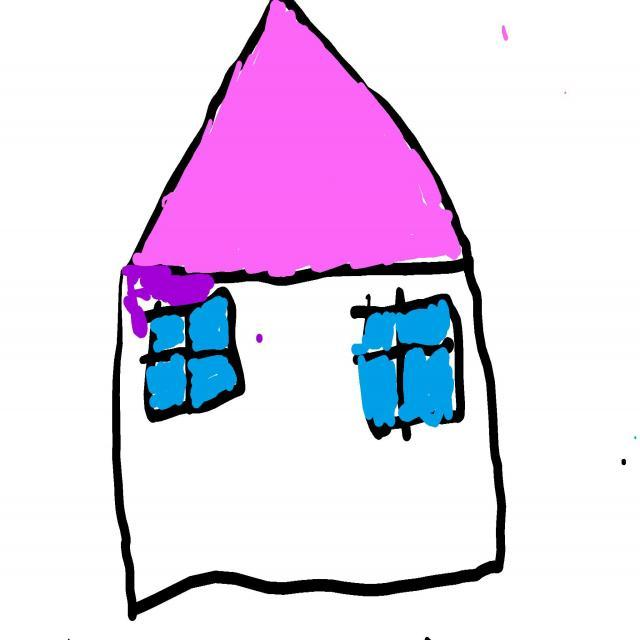house: (113, 0, 507, 620)
roof: (133, 0, 462, 278)
wall: (115, 263, 487, 582)
window: (352, 289, 465, 440), (140, 289, 245, 423)
